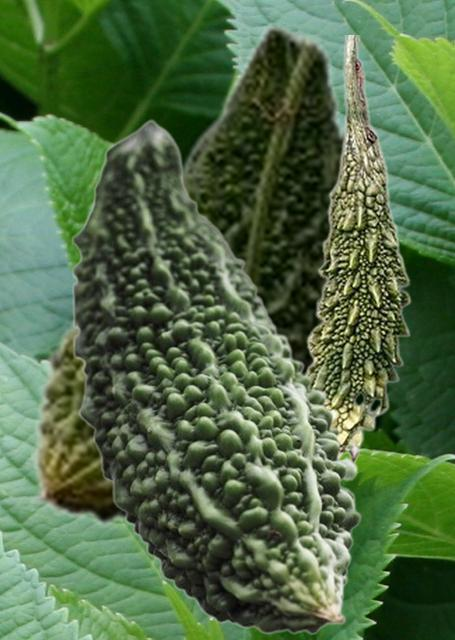ampalaya: (31, 23, 342, 526), (71, 118, 361, 634), (303, 35, 411, 462)
